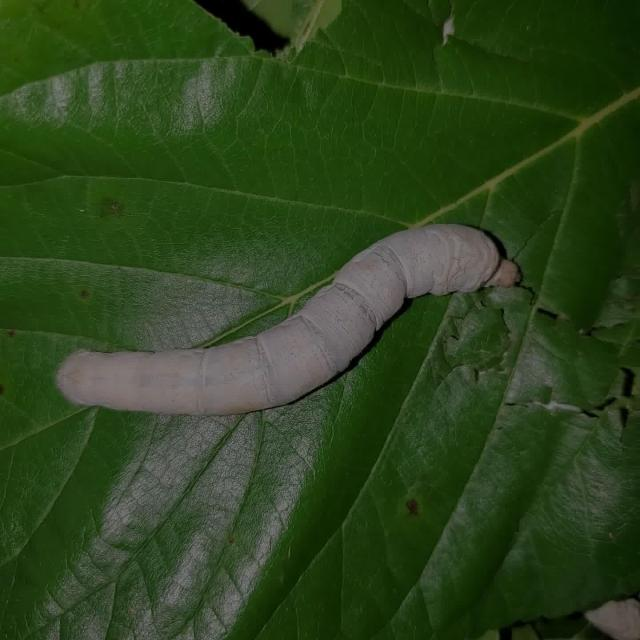Healthy: (39, 176, 545, 478)
